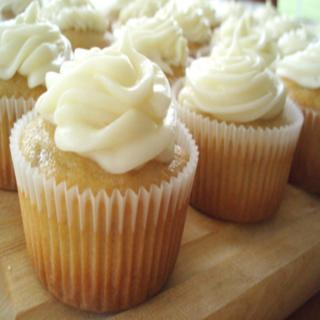Muffin: (0, 0, 319, 315)
